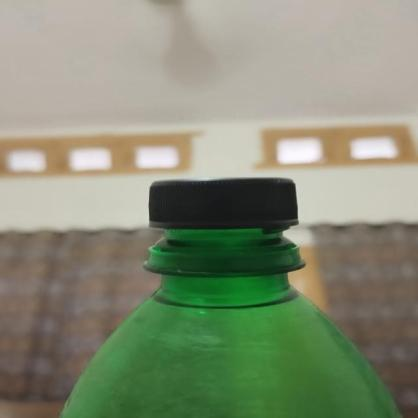cap: (148, 177, 303, 266)
